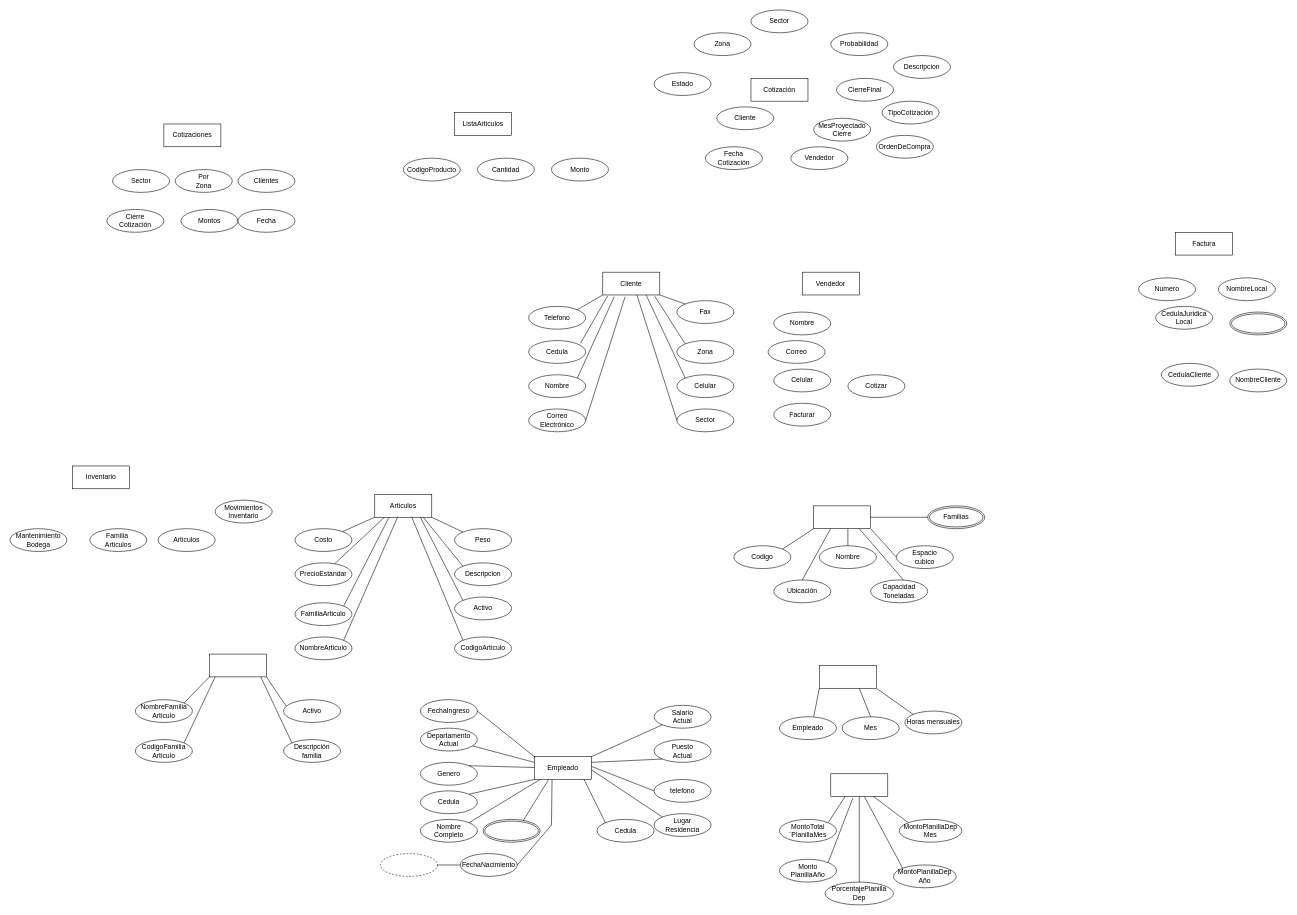
The diagram is 1297 pixels wide and 915 high, and some of its shapes have lost their labels. The shapes that lost their labels are listed below. From the top down, each one's centre as x and y in pixels, then its label:
At [1258,323]: "Telefonos Local".
At [842,517]: "Bodega".
At [237,665]: "Familas".
At [847,676]: "Registro Salarios".
At [859,785]: "Reportes".
At [511,830]: "Historicos".
At [408,864]: "Edad".
